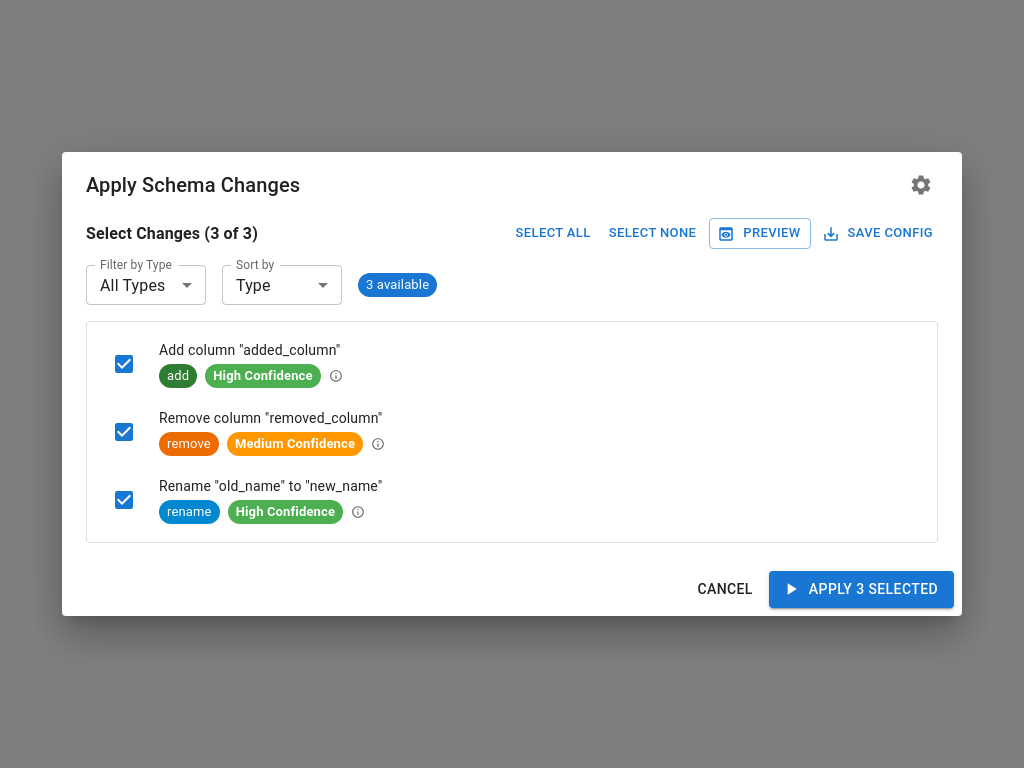
Test: Bulk Operations with Confidence Information › should show confidence distribution in preview
This screenshot has width=1024, height=768.
Note: Click preview button
Click the button "Preview" at (760, 234), box x1=709 y1=218 x2=810 y2=249
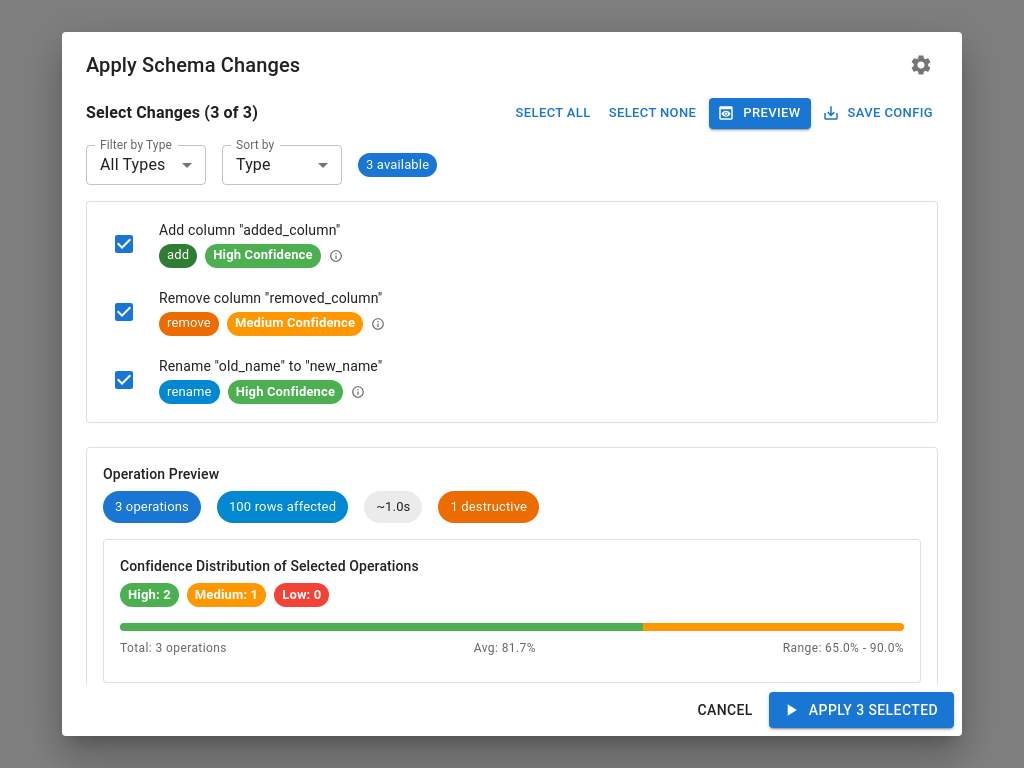
Now the heading "Confidence Distribution of Selected Operations" is shown, box x1=120 y1=558 x2=419 y2=574
Now the text "High: 2" is shown, box x1=128 y1=587 x2=171 y2=602
Now the text "Medium: 1" is shown, box x1=195 y1=587 x2=258 y2=602
